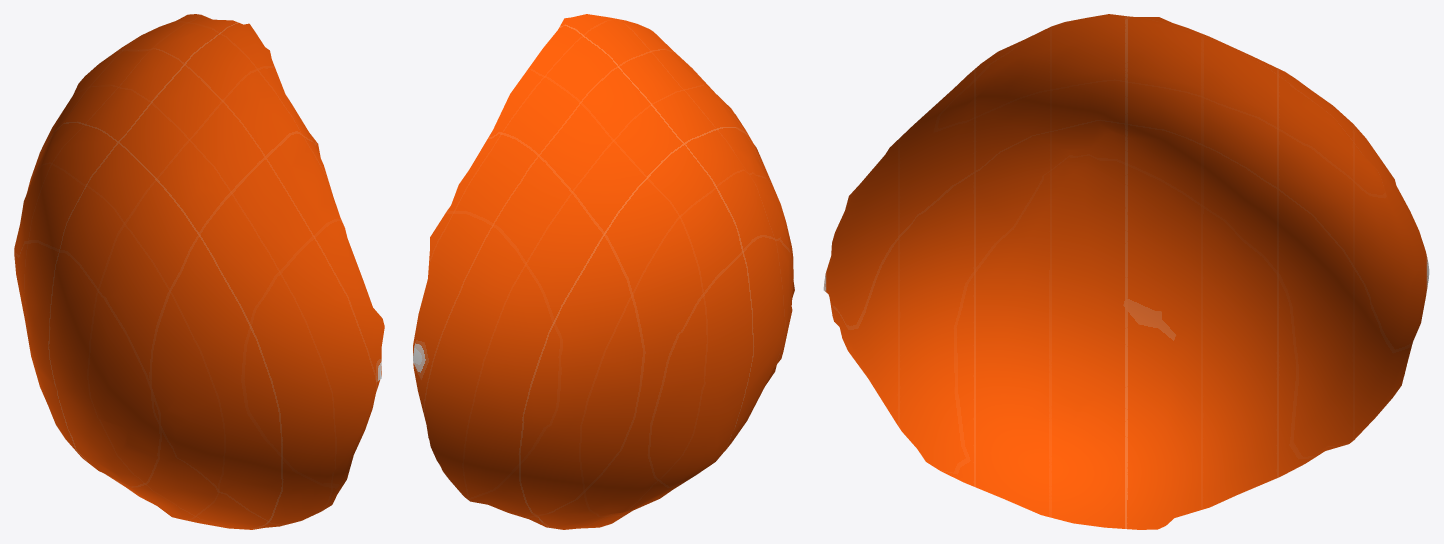
3 views of the same model, side by side, from view 1: azimuth 30°, elevation 25°; view 2: azimuth 150°, elevation 25°; view 3: azimuth 270°, elevation 25° (orthographic). The views are drawn at different scales.
Visible parts, largest first — view 1: Renderer Node; view 2: Renderer Node; view 3: Renderer Node.
Boxes of the visible parts, bbox=[...] form: Renderer Node: bbox=[14, 14, 384, 529]; Renderer Node: bbox=[413, 14, 794, 529]; Renderer Node: bbox=[823, 14, 1429, 529].
Bounding box in the file's own units: 0.2558 × 0.5704 × 0.5983.
1 material, 1 textured.
